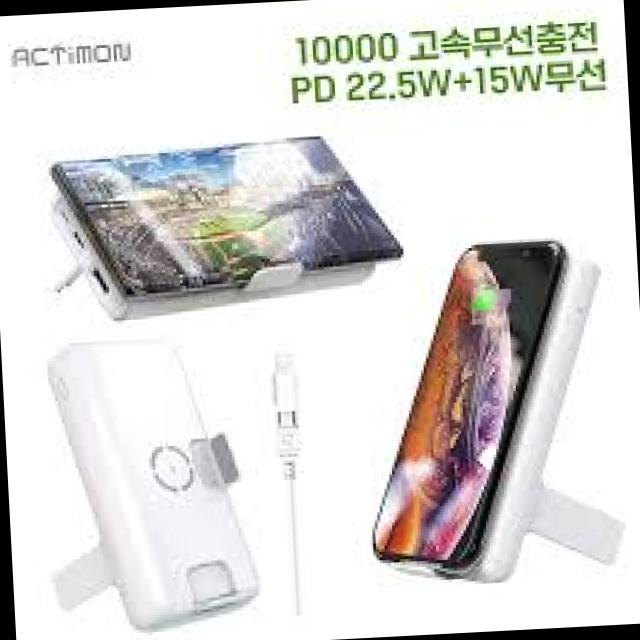power_bank: (49, 330, 269, 636), (452, 258, 613, 585), (46, 180, 376, 322)
